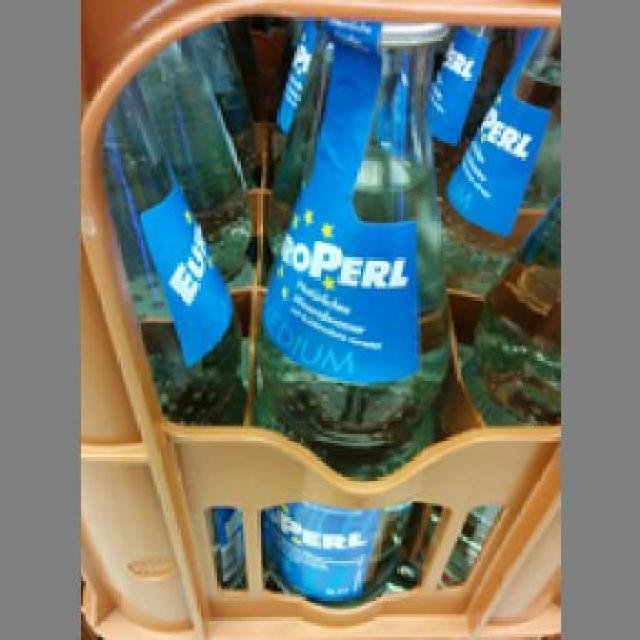Water: (252, 17, 452, 606), (94, 74, 243, 580)
